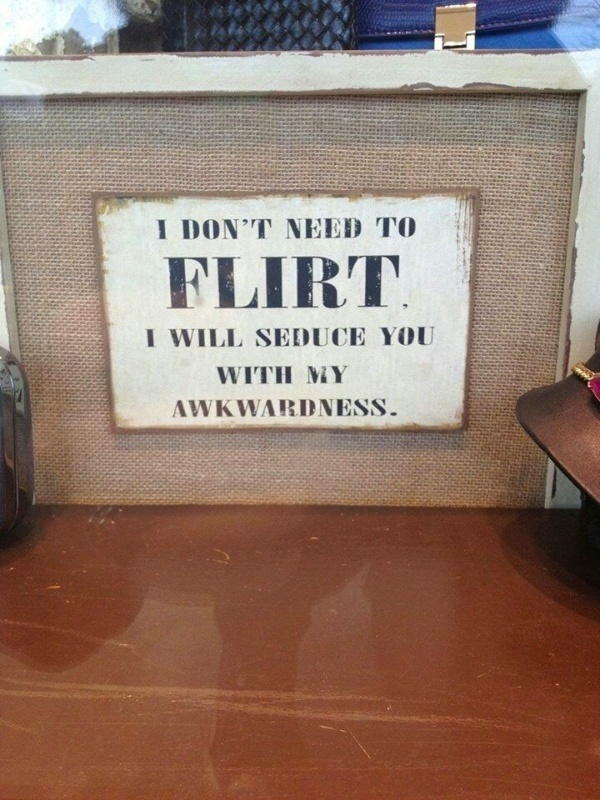text: (177, 254, 192, 311), (193, 254, 208, 311), (209, 254, 224, 311), (225, 254, 240, 311), (241, 254, 256, 311), (257, 254, 272, 311), (273, 254, 288, 311), (289, 254, 304, 311), (305, 254, 320, 311), (321, 254, 336, 311), (337, 254, 352, 311), (353, 254, 368, 311), (369, 254, 384, 311), (385, 254, 400, 311), (162, 254, 176, 311), (401, 254, 410, 311), (257, 218, 273, 241), (289, 217, 304, 240), (305, 217, 320, 240), (321, 217, 336, 240), (337, 217, 352, 240), (385, 216, 400, 239), (401, 216, 416, 239), (193, 218, 208, 241), (209, 218, 224, 241), (225, 218, 240, 241), (241, 218, 256, 241), (145, 327, 160, 349), (385, 326, 400, 347), (401, 326, 416, 347), (417, 326, 432, 347), (257, 327, 272, 347), (273, 327, 288, 347), (289, 327, 304, 347), (305, 327, 320, 347), (321, 327, 336, 347), (337, 327, 352, 347), (177, 329, 192, 348), (193, 329, 208, 348), (209, 329, 224, 348), (225, 329, 240, 348), (225, 366, 240, 385), (241, 366, 256, 385), (257, 366, 272, 385), (273, 366, 288, 385), (321, 366, 336, 385), (177, 399, 192, 418), (193, 399, 208, 418), (209, 399, 224, 418), (225, 399, 240, 418), (241, 399, 256, 418), (257, 399, 272, 418), (273, 399, 288, 418), (289, 399, 304, 418), (305, 399, 320, 418), (321, 399, 336, 418), (337, 399, 352, 418), (353, 399, 368, 418), (369, 399, 384, 418), (306, 366, 320, 385), (385, 399, 399, 418), (353, 327, 366, 347), (181, 218, 192, 241), (353, 217, 363, 240), (337, 366, 349, 385), (376, 216, 384, 239), (161, 219, 169, 241), (167, 329, 176, 348), (216, 366, 224, 385), (289, 366, 295, 385), (379, 326, 384, 347), (171, 399, 176, 418), (156, 219, 160, 241), (285, 217, 288, 240), (433, 326, 436, 347), (241, 329, 244, 348), (255, 327, 256, 347)
